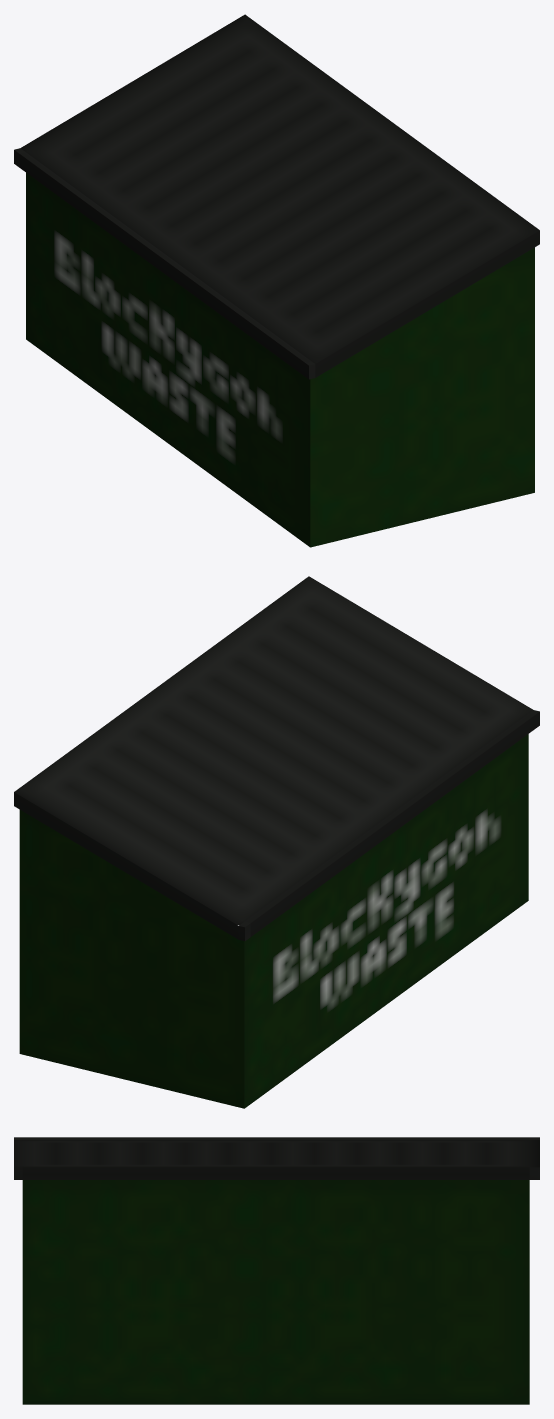
File: BGN_DUMPSTER(CLOSED).fbx
3 views of the same model, one above another, from view 1: azimuth 30°, elevation 25°; view 2: azimuth 150°, elevation 25°; view 3: azimuth 270°, elevation 25° (orthographic). The views are drawn at different scales.
Visible parts, largest first — view 1: BGN_DUMPSTER_CLOSED_; view 2: BGN_DUMPSTER_CLOSED_; view 3: BGN_DUMPSTER_CLOSED_.
Boxes of the visible parts, left/top/right/bottom form: BGN_DUMPSTER_CLOSED_: left=14, top=14, right=539, bottom=547; BGN_DUMPSTER_CLOSED_: left=14, top=576, right=539, bottom=1108; BGN_DUMPSTER_CLOSED_: left=14, top=1137, right=539, bottom=1404.
Size of the model in its own units: 136 by 150 by 301.
Materials: 1 (1 with a texture image).
